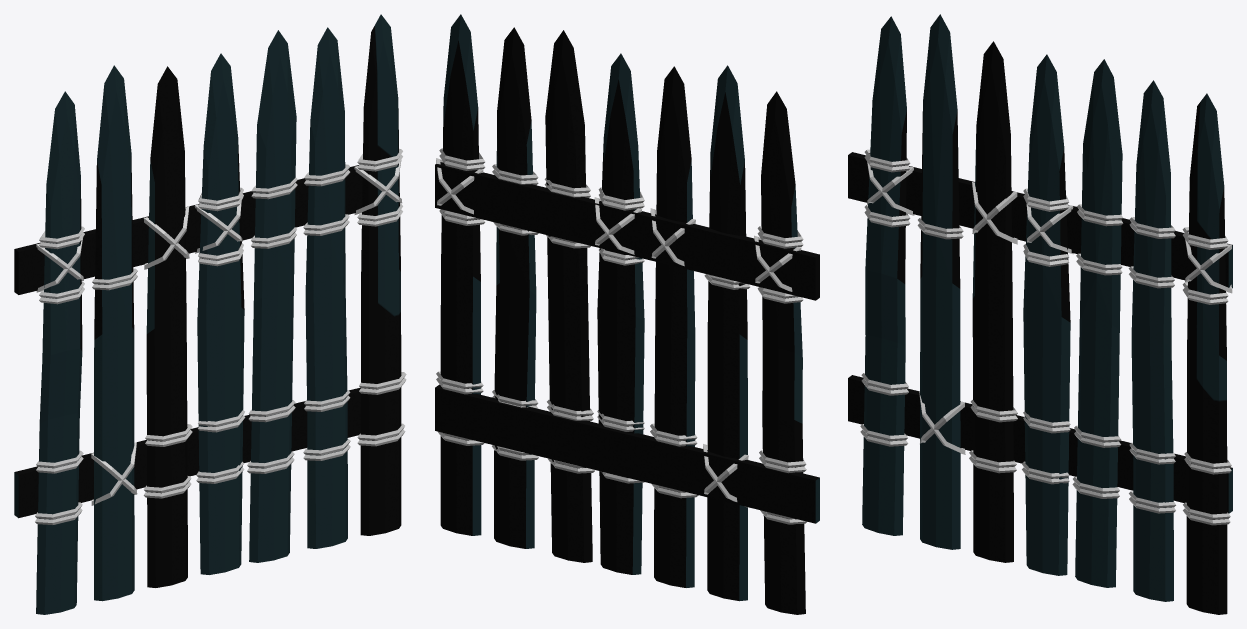
File: fence.fbx
The picture shows the model from 3 angles, left to right: view 1: azimuth 30°, elevation 25°; view 2: azimuth 150°, elevation 25°; view 3: azimuth 330°, elevation 25°; orthographic projection.
Parts seen in each view (by area): view 1: Cube.029_Baked.015; view 2: Cube.029_Baked.015; view 3: Cube.029_Baked.015.
Boxes of the visible parts, bbox=[...] form: Cube.029_Baked.015: bbox=[14, 14, 406, 614]; Cube.029_Baked.015: bbox=[435, 14, 819, 614]; Cube.029_Baked.015: bbox=[848, 14, 1232, 614].
Size of the model in its own units: 178 by 234 by 16.54.
